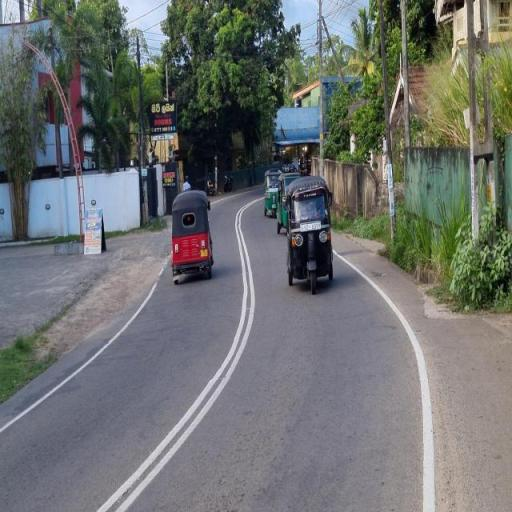double_white_line: (96, 197, 256, 512)
